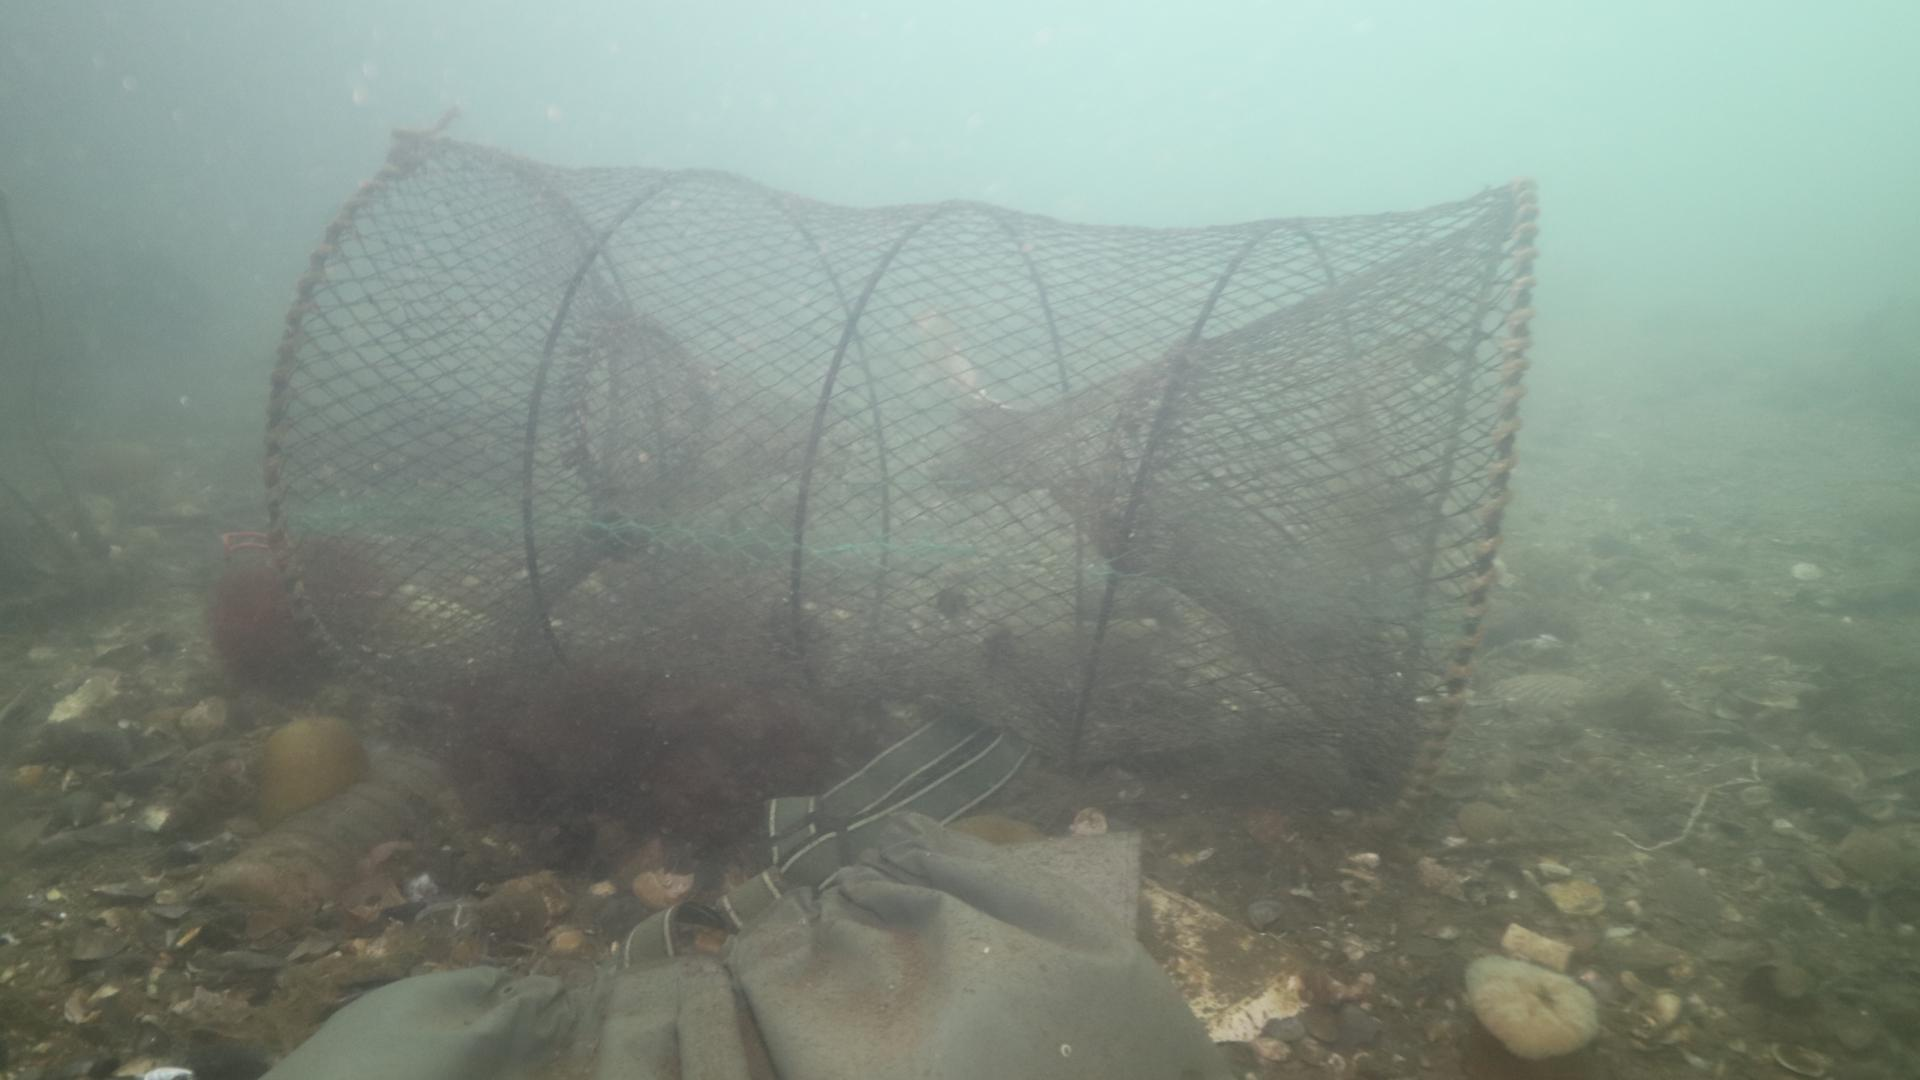spring fish trap: (258, 119, 1538, 841)
